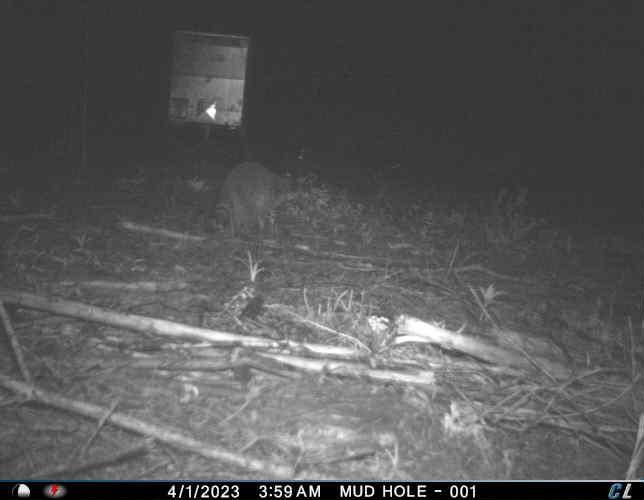Raccoon: (210, 157, 299, 243)
